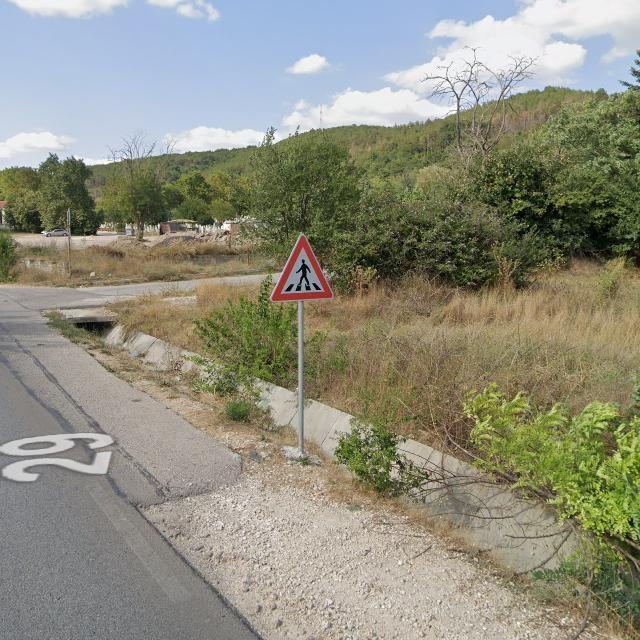warn_crosswalk: (272, 236, 340, 301)
